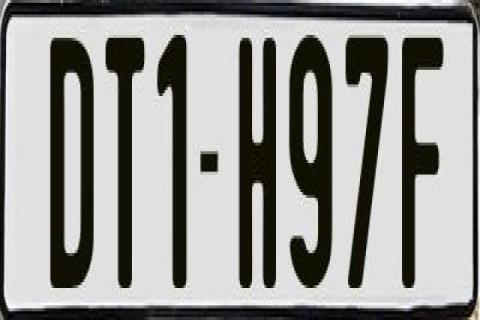0: (342, 32, 392, 296), (287, 29, 333, 288), (158, 29, 188, 299)
D: (47, 38, 93, 297)
F: (402, 38, 442, 291)
H: (236, 35, 276, 294)
T: (106, 38, 150, 300)
